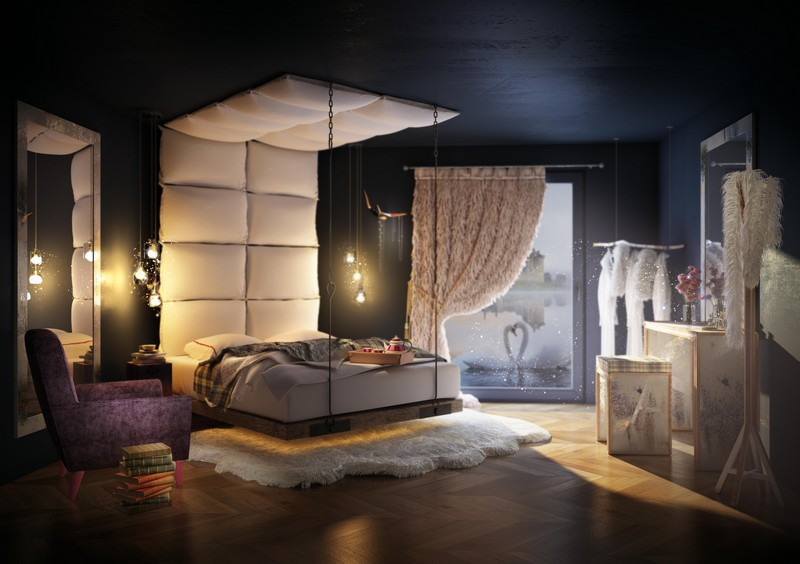bed: (150, 70, 460, 447)
chair: (24, 327, 193, 489)
door: (420, 163, 586, 403)
lamp: (126, 235, 168, 314), (336, 242, 378, 309)
stool: (593, 351, 675, 466)
